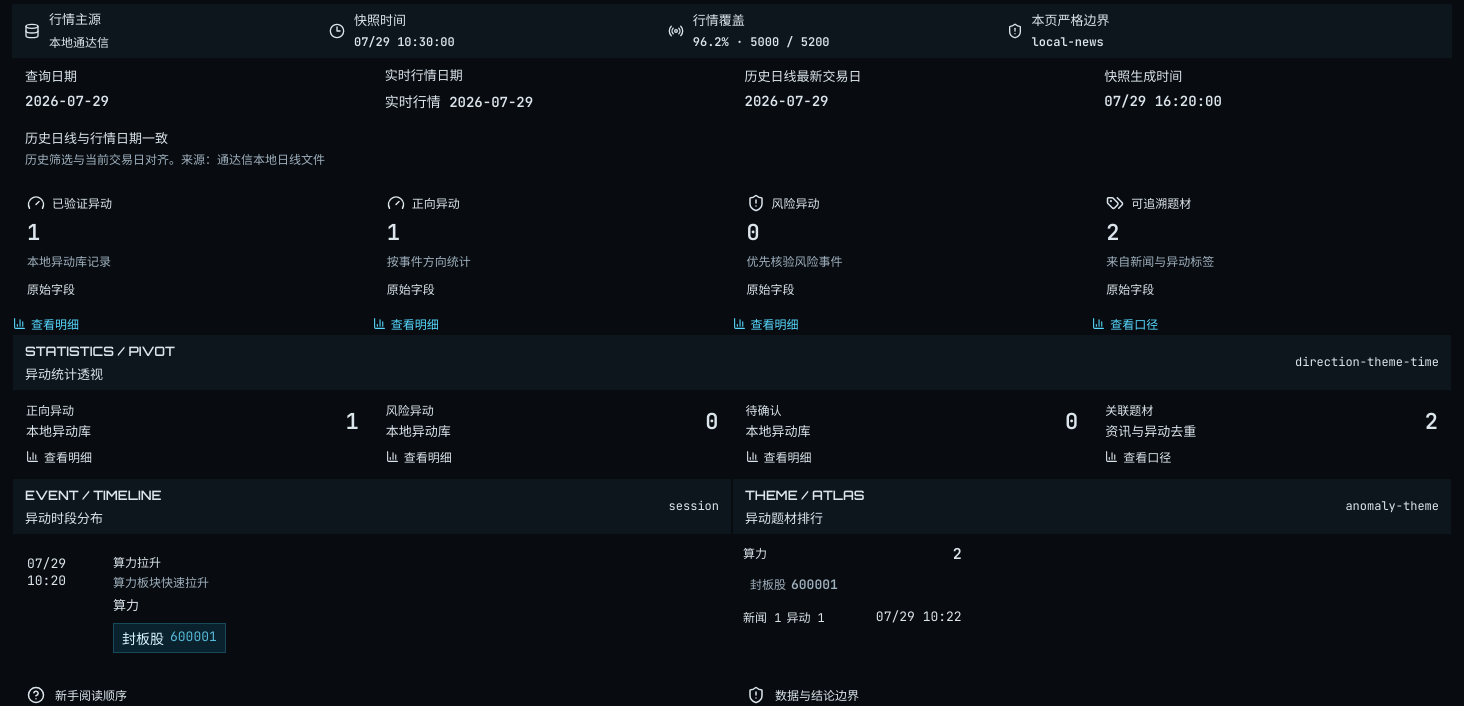
it: DistinctMarketWorkspace › resolves anomaly-linked codes to stock names in drill-down details
Click the button with aria-label "筛选：正向异动 1" at (50, 411), box x1=26 y1=401 x2=359 y2=466
(page scrolled)
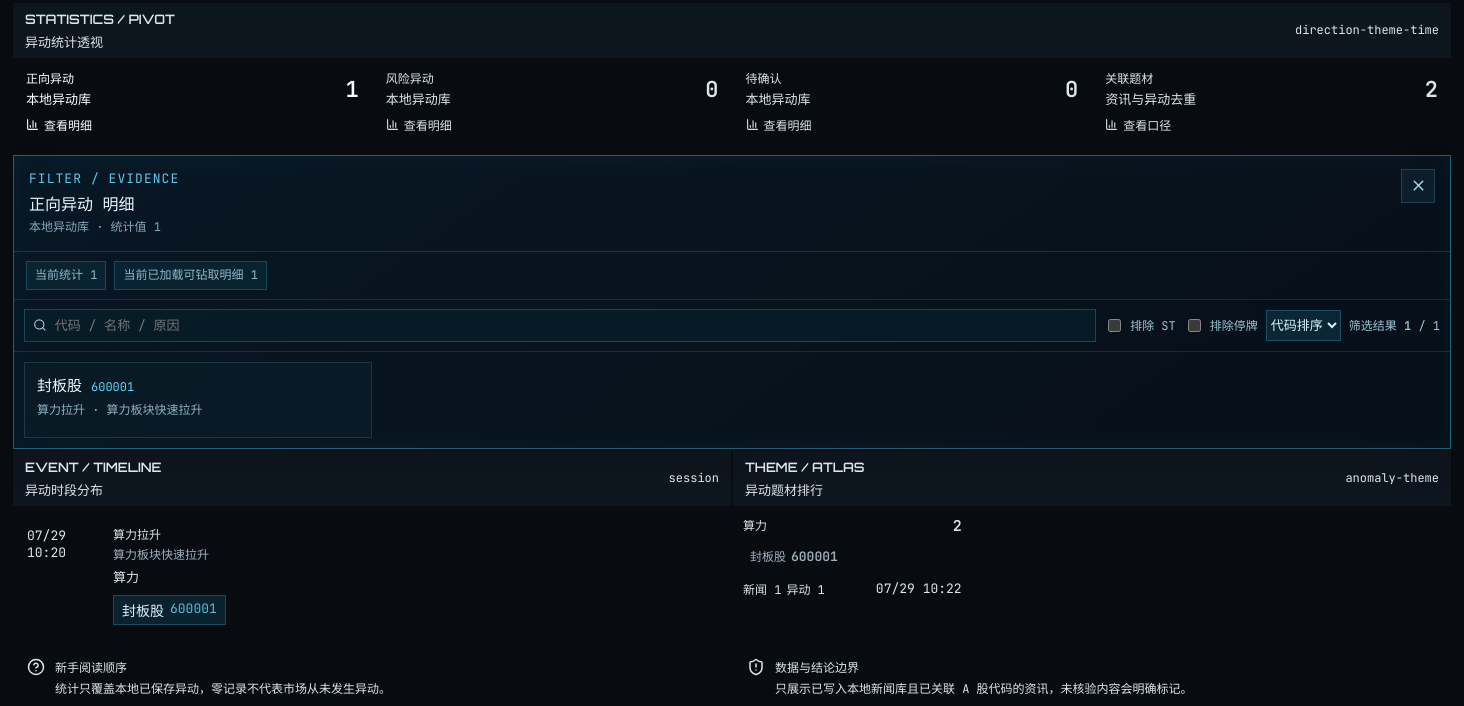
Result: the element "正向异动 明细" shows "封板股" at x1=37 y1=376 x2=82 y2=396
Result: the element "正向异动 明细" shows "600001" at x1=91 y1=379 x2=134 y2=395
Result: the element "正向异动 明细" shows "算力拉升" at x1=37 y1=402 x2=203 y2=418
